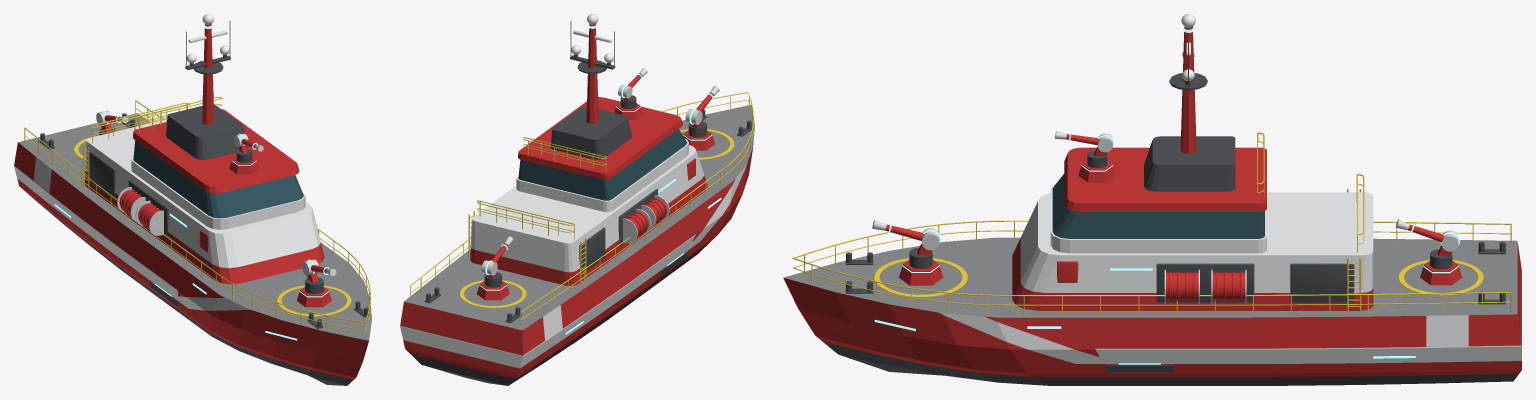
Rendered from robo-fireboat.glb.
3 renders of one model, left to right at view 1: azimuth 30°, elevation 25°; view 2: azimuth 150°, elevation 25°; view 3: azimuth 270°, elevation 25°, orthographic. The views are drawn at different scales.
Visible parts, largest first — view 1: robo_hull, robo_house, robo_bridge_roof, robo_bridge_glass, robo_tower, robo_bridge_body, robo_rail0, robo_mast, robo_monitor_bow, robo_monitor_top, robo_bay-11, robo_reel-1-1 (+6 smaller); view 2: robo_hull, robo_house, robo_bridge_roof, robo_bridge_glass, robo_tower, robo_bridge_body, robo_mast, robo_rail0, robo_monitor_aft, robo_monitor_bow, robo_monitor_top, robo_bay-11 (+6 smaller); view 3: robo_hull, robo_house, robo_bridge_roof, robo_bridge_glass, robo_tower, robo_rail0, robo_bridge_body, robo_bay+11, robo_mast, robo_monitor_bow, robo_bay+10, robo_monitor_aft (+6 smaller).
Boxes of the visible parts, x1,y1,x2,y2 form: robo_hull: (14, 113, 371, 385); robo_house: (84, 119, 324, 284); robo_bridge_roof: (133, 109, 299, 193); robo_bridge_glass: (133, 140, 303, 218); robo_tower: (166, 104, 248, 159); robo_bridge_body: (131, 158, 305, 229); robo_rail0: (24, 100, 370, 336); robo_mast: (185, 14, 230, 124); robo_monitor_bow: (296, 259, 336, 307); robo_monitor_top: (229, 133, 263, 174); robo_bay-11: (89, 151, 115, 199); robo_reel-1-1: (135, 200, 163, 235); robo_hull: (400, 105, 754, 385); robo_house: (470, 145, 707, 285); robo_bridge_roof: (518, 97, 682, 179); robo_bridge_glass: (518, 129, 687, 200); robo_tower: (550, 106, 632, 159); robo_bridge_body: (516, 138, 688, 212); robo_mast: (570, 14, 615, 123); robo_rail0: (410, 92, 753, 327); robo_monitor_aft: (476, 236, 513, 300); robo_monitor_bow: (683, 86, 719, 150); robo_monitor_top: (614, 68, 647, 120); robo_bay-11: (579, 227, 605, 273); robo_hull: (783, 237, 1521, 385); robo_house: (1012, 192, 1373, 310); robo_bridge_roof: (1064, 147, 1266, 211); robo_bridge_glass: (1052, 174, 1264, 238); robo_tower: (1144, 136, 1235, 191); robo_rail0: (792, 220, 1511, 314); robo_bridge_body: (1050, 183, 1266, 253); robo_bay+11: (1290, 263, 1354, 302); robo_mast: (1169, 14, 1207, 153); robo_monitor_bow: (872, 220, 943, 285); robo_bay+10: (1156, 263, 1254, 302); robo_monitor_aft: (1395, 219, 1462, 285).
Size of the model in its own units: 9.36 by 18.57 by 34.8.
